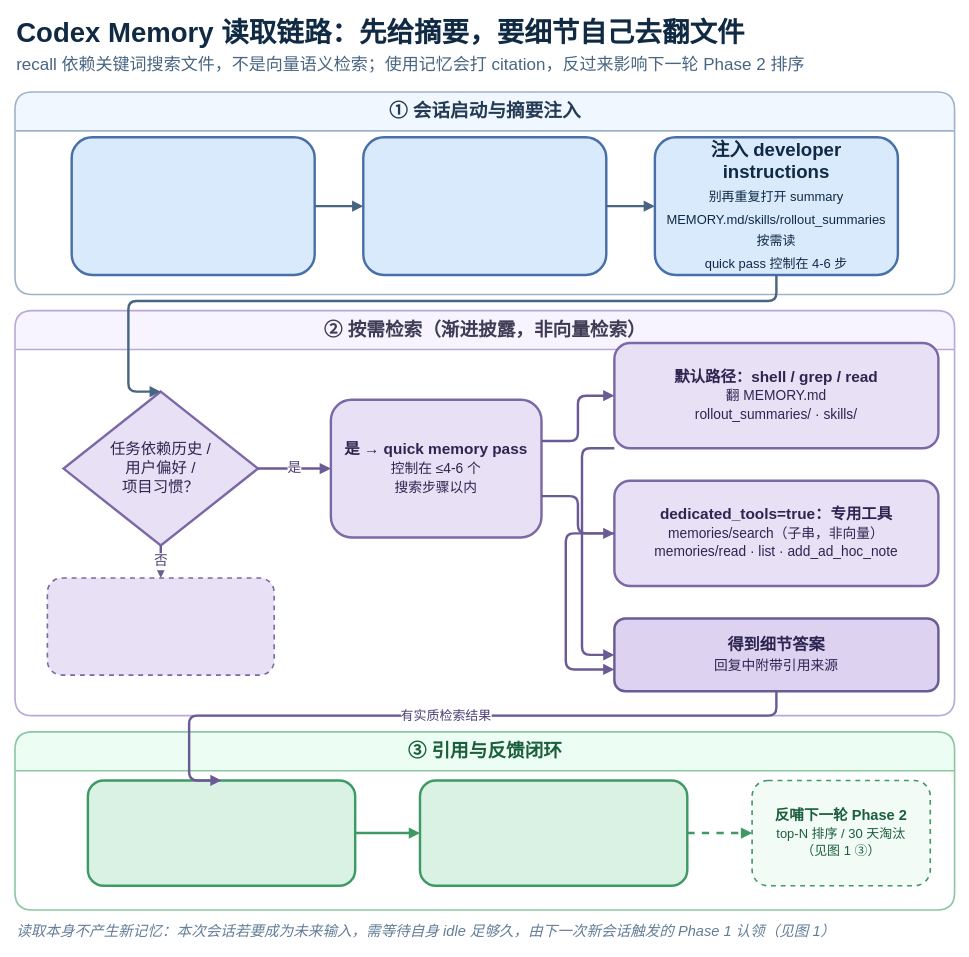
This 969x957 diagram has some shape labels left out. Each missing label, with the centre of its shape:
"否 → 直接用 summary 回答 不发起检索 若用到 summary 内容仍打 citation" goes at point 160,626.
"打标记 <oai-mem-citation> 不是给用户看的 是给系统做 usage 统计" goes at point 221,833.
"新会话启动 Feature::MemoryTool 开 use_memories=true" goes at point 192,206.
"更新 usage_count / last_usage 对应 stage1_outputs 里的那条候选记录" goes at point 553,833.
"读取 memory_summary.md 硬上限 2500 tokens 超出部分直接截断" goes at point 484,206.
